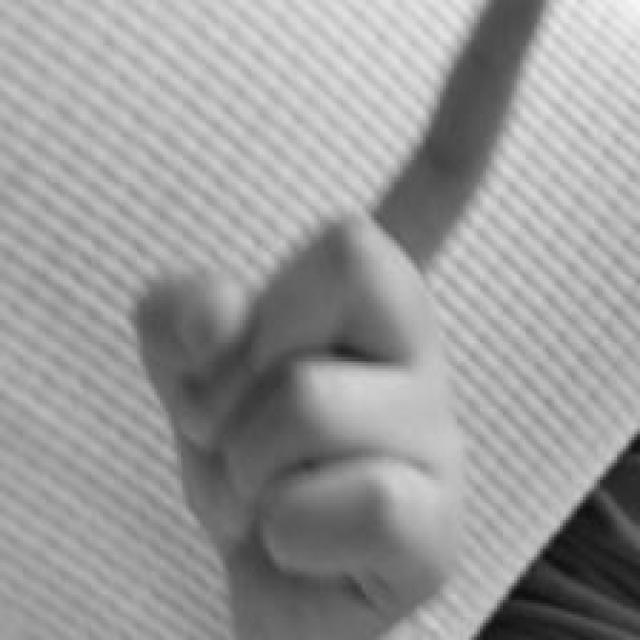I: (132, 0, 556, 640)
